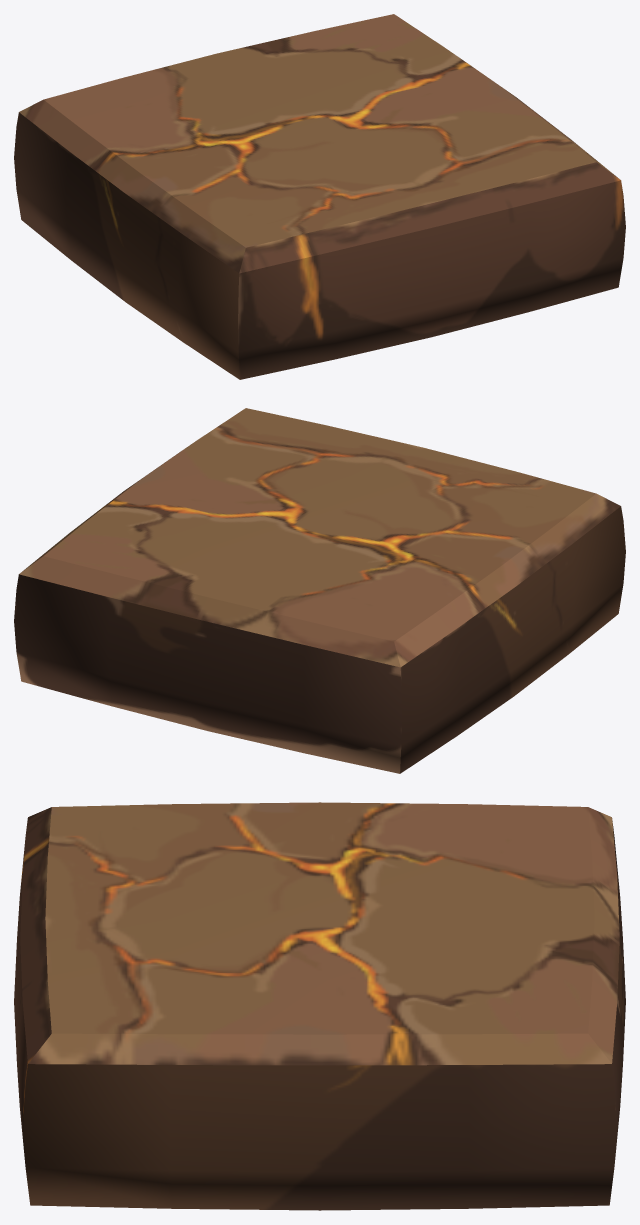
The model's file is StoneTile.fbx.
3 views of the same model, one above another, from view 1: azimuth 30°, elevation 25°; view 2: azimuth 150°, elevation 25°; view 3: azimuth 270°, elevation 25° (orthographic). The views are drawn at different scales.
Visible parts, largest first — view 1: pCube1; view 2: pCube1; view 3: pCube1.
Boxes of the visible parts, bbox=[...] form: pCube1: bbox=[14, 14, 625, 379]; pCube1: bbox=[14, 408, 625, 773]; pCube1: bbox=[14, 802, 625, 1210].
Size of the model in its own units: 4 by 1.24 by 4.
